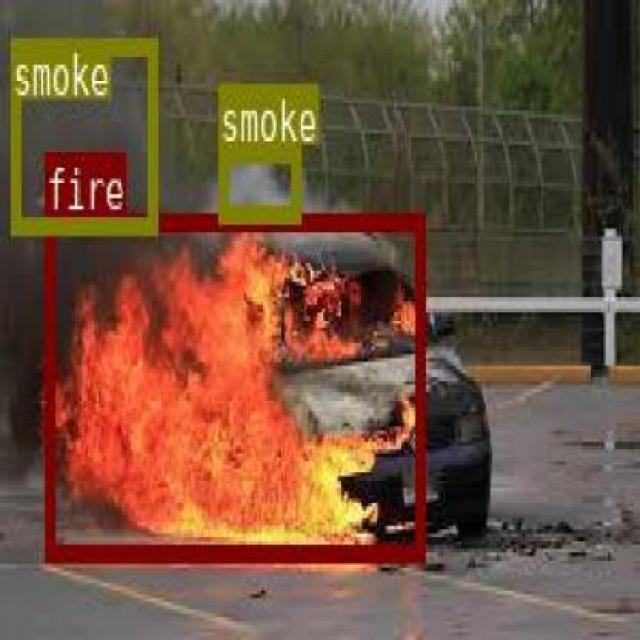Fire: (47, 236, 414, 543)
Smoke: (10, 96, 150, 162), (229, 168, 294, 214)
